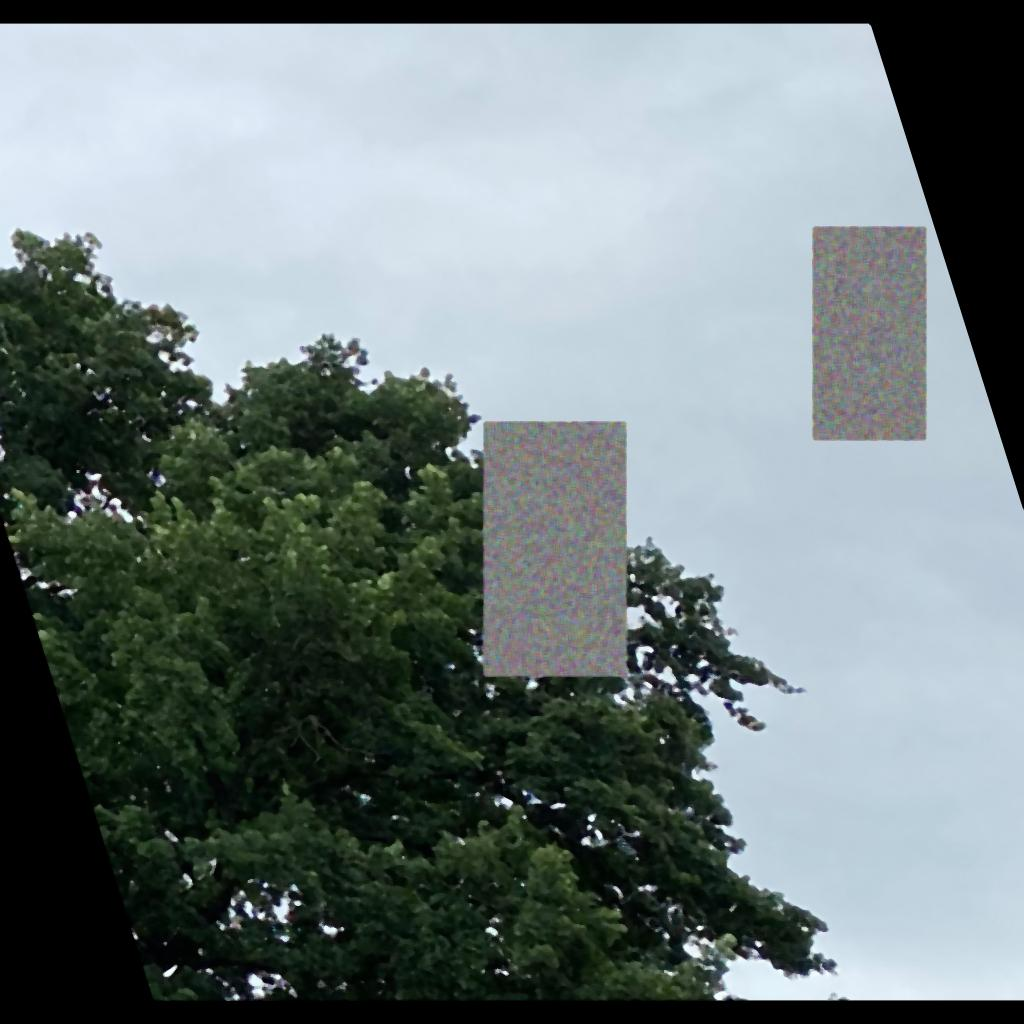tree: (1, 226, 840, 1000)
